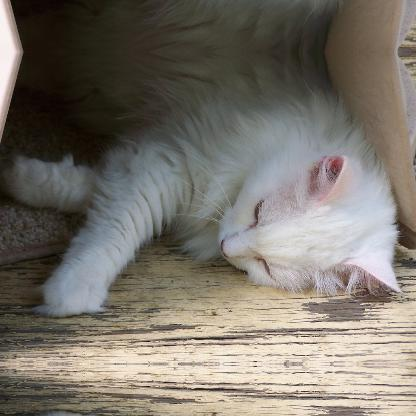Cat: (0, 52, 404, 316)
